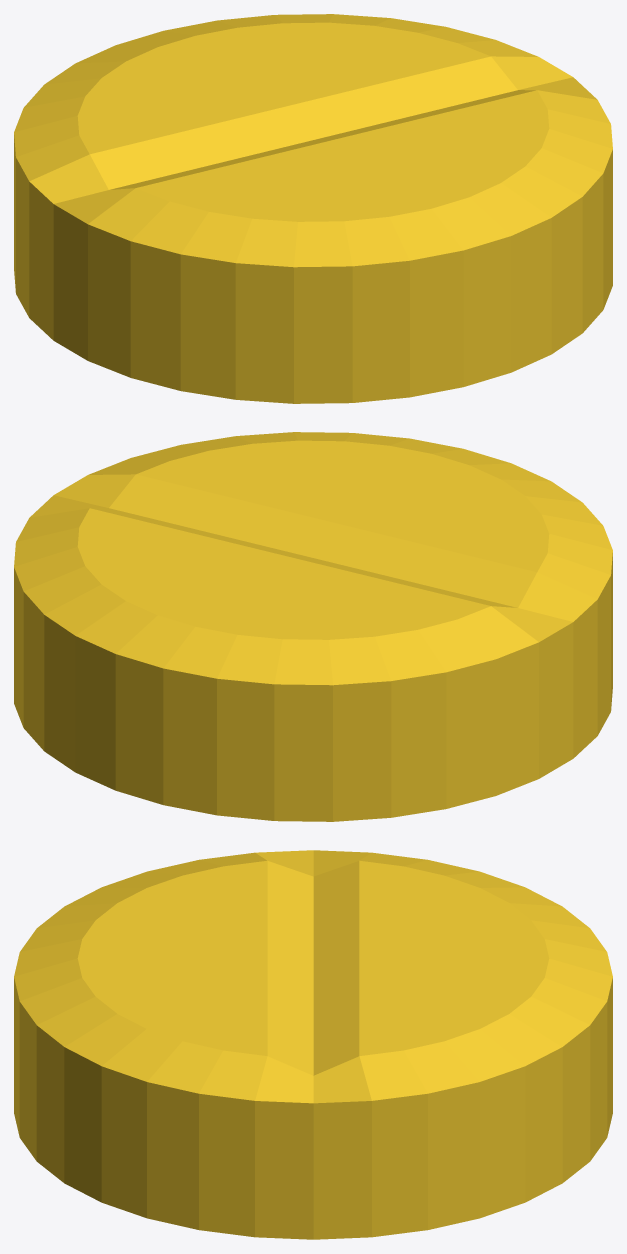
The model's file is Phile2.glb.
3 renders of one model, top to bottom at view 1: azimuth 30°, elevation 25°; view 2: azimuth 150°, elevation 25°; view 3: azimuth 270°, elevation 25°, orthographic.
Parts seen in each view (by area): view 1: Cylinder.005; view 2: Cylinder.005; view 3: Cylinder.005.
Boxes of the visible parts, x1,y1,x2,y2 form: Cylinder.005: (14, 14, 612, 403); Cylinder.005: (14, 432, 612, 821); Cylinder.005: (14, 850, 612, 1239).
Bounding box in the file's own units: 1.26 × 0.403 × 1.26.
